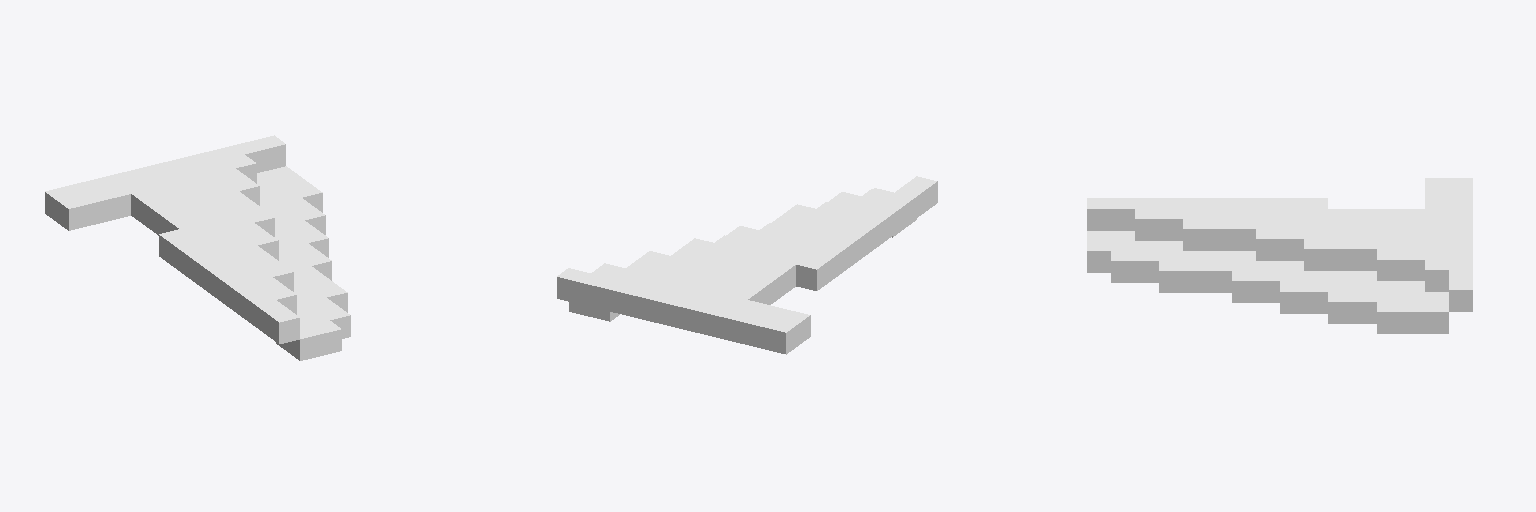
The model's file is stairs_shard-2.obj.
3 views of the same model, side by side, from view 1: azimuth 30°, elevation 25°; view 2: azimuth 150°, elevation 25°; view 3: azimuth 270°, elevation 25° (orthographic).
Parts seen in each view (by area): view 1: object 1; view 2: object 1; view 3: object 1.
Part boxes in pixels (bbox=[...]): object 1: bbox=[45, 135, 350, 360]; object 1: bbox=[557, 176, 937, 354]; object 1: bbox=[1087, 178, 1472, 333].
Size of the model in its own units: 1.1 by 0.2 by 1.6.